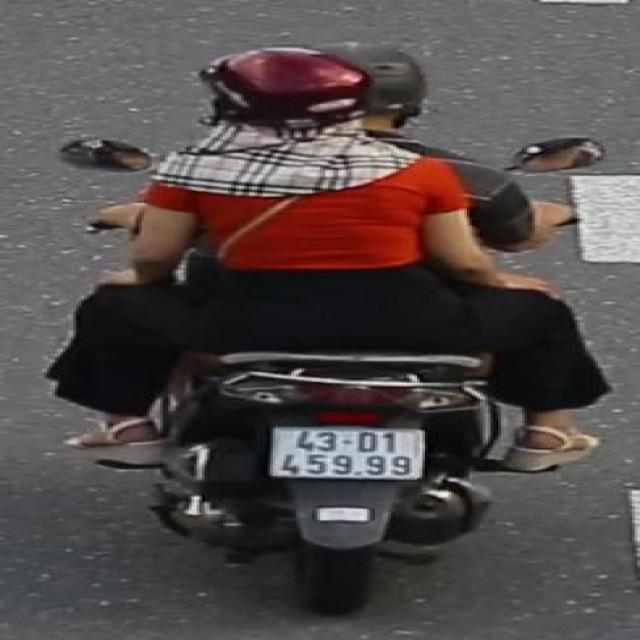LP: (266, 420, 432, 483)
helmet: (193, 40, 374, 152), (319, 38, 434, 119)
